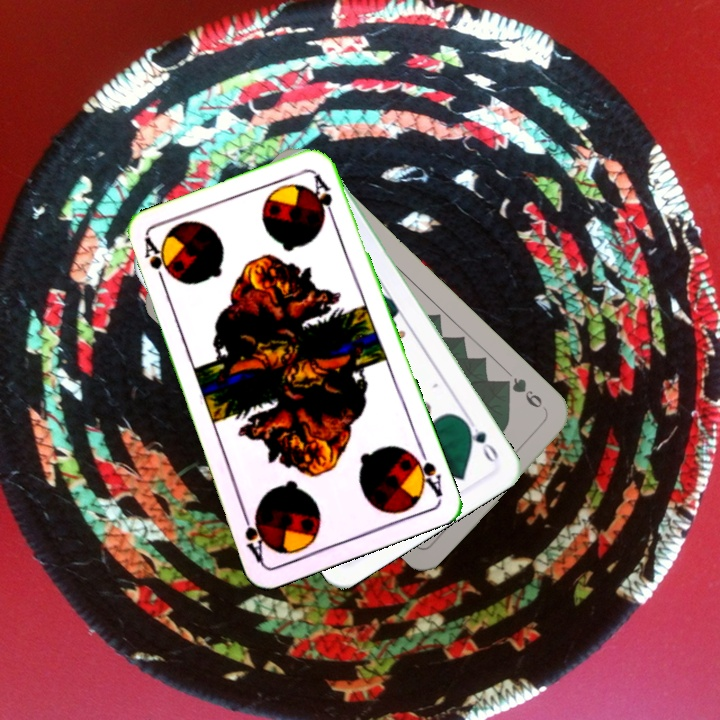G9: (498, 373, 550, 415)
GO: (459, 412, 501, 466)
SA: (405, 442, 446, 499), (140, 234, 170, 292)
